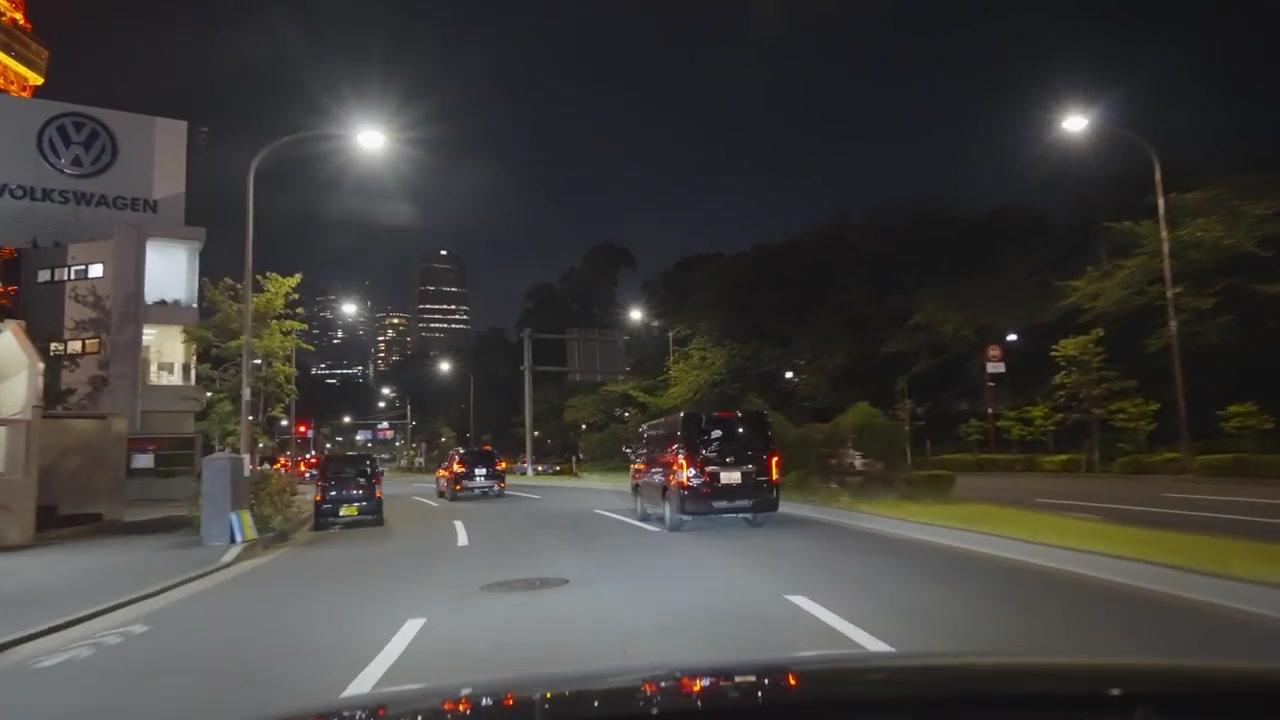car: (312, 453, 385, 531), (435, 448, 507, 500), (296, 452, 321, 480)
traffic light: (295, 422, 310, 436)
truck: (628, 410, 783, 531)
